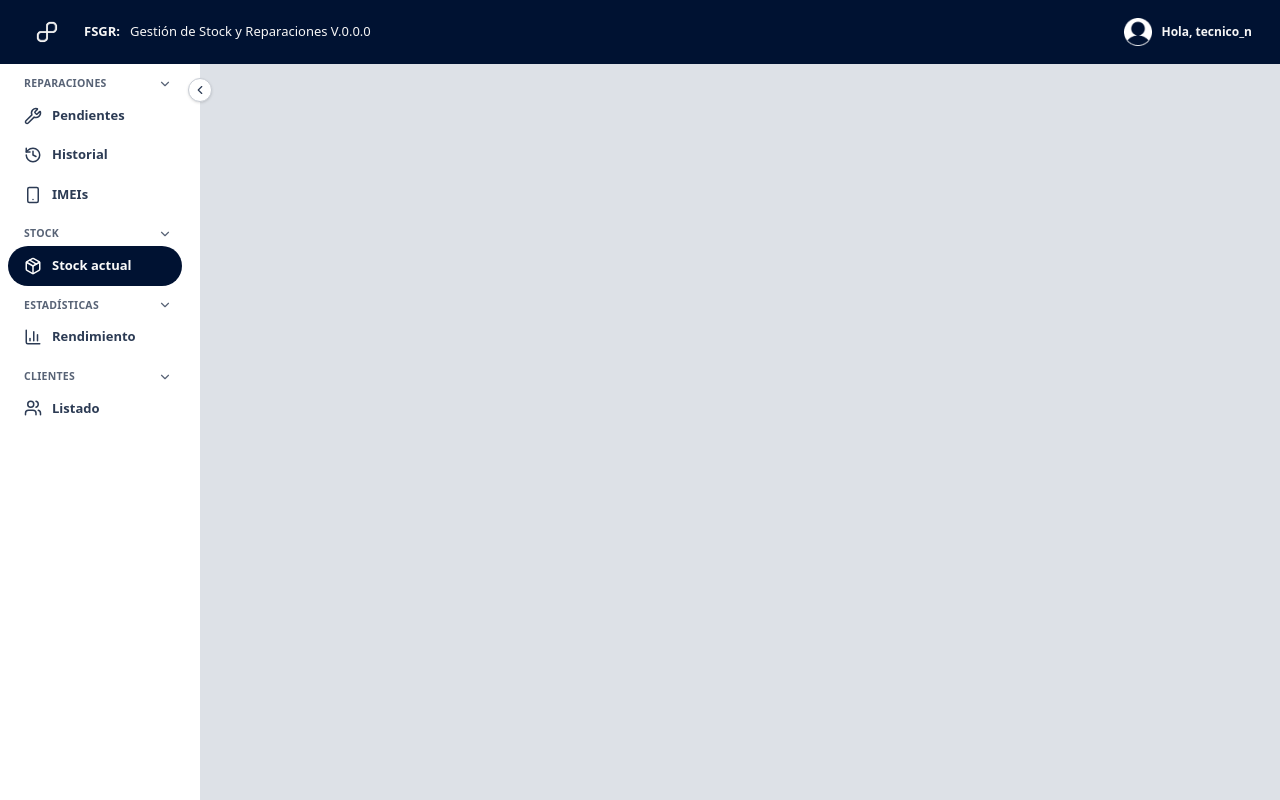
barra superior (calco de MainView) › "Cambiar contraseña" ya no navega a /cuenta/cambiar-password (la ruta desaparece; el diálogo lo abre en el sitio)
The image size is (1280, 800).
Step 1. Click the button "Hola, tecnico_n" → (1188, 32), box [1116,14,1260,50]
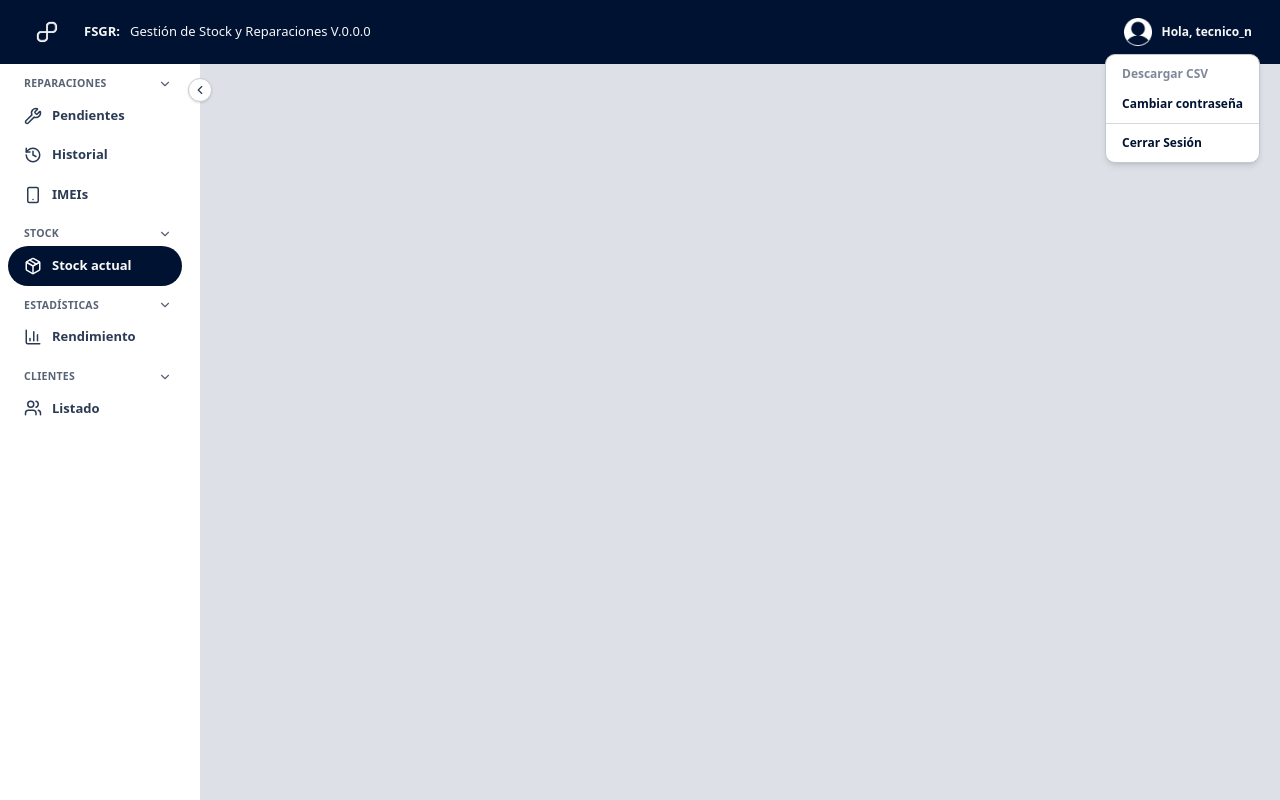
Step 2. Click the menu item "Cambiar contraseña" → (1183, 104), box [1122,95,1243,112]
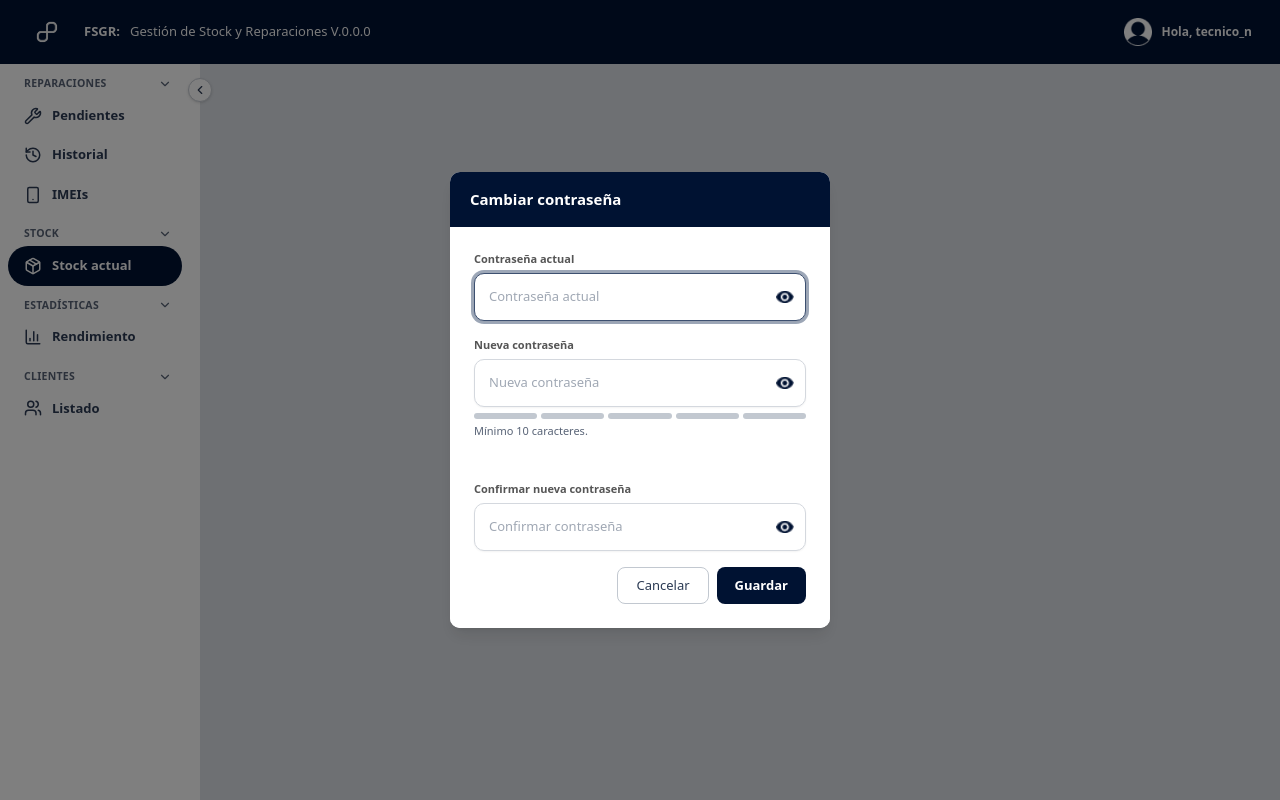
Expected: the dialog "Cambiar contraseña" is shown, [450,172,830,628]
